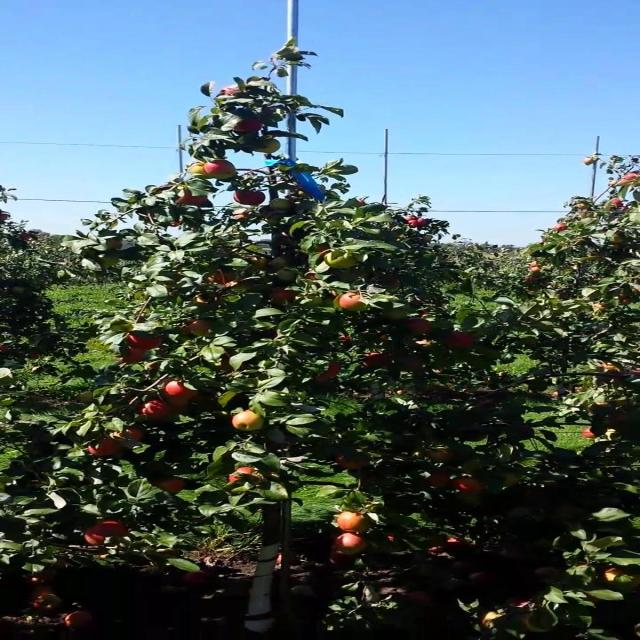apple: (84, 520, 133, 546), (333, 512, 377, 533), (163, 380, 199, 400), (84, 440, 124, 458), (333, 536, 370, 555), (333, 452, 370, 471), (604, 568, 639, 588), (234, 412, 268, 432), (340, 292, 372, 312), (205, 160, 236, 180), (141, 400, 172, 420), (227, 468, 265, 484), (454, 476, 489, 493), (312, 364, 341, 383), (148, 480, 187, 494), (234, 192, 268, 208), (326, 252, 359, 268), (113, 428, 148, 443), (604, 412, 631, 431), (426, 448, 457, 464), (447, 332, 476, 349), (184, 320, 213, 337), (362, 352, 391, 369), (127, 336, 164, 349), (120, 348, 149, 364), (426, 472, 453, 489), (177, 192, 208, 206), (525, 616, 548, 633), (212, 272, 238, 287), (234, 120, 263, 133), (483, 612, 505, 629), (276, 288, 299, 304), (383, 308, 411, 321), (333, 552, 359, 566), (404, 356, 425, 372), (596, 360, 620, 374), (412, 320, 434, 335), (191, 164, 212, 179), (269, 200, 297, 211), (170, 400, 192, 414), (248, 256, 268, 271), (262, 140, 284, 153), (269, 256, 292, 268), (184, 196, 208, 207), (461, 496, 485, 507), (589, 404, 612, 415), (412, 340, 436, 350), (276, 272, 297, 282), (504, 476, 521, 488), (582, 428, 599, 440), (106, 240, 123, 249), (625, 368, 639, 378), (305, 272, 320, 280), (618, 400, 633, 408), (390, 280, 402, 289), (319, 248, 332, 255)
